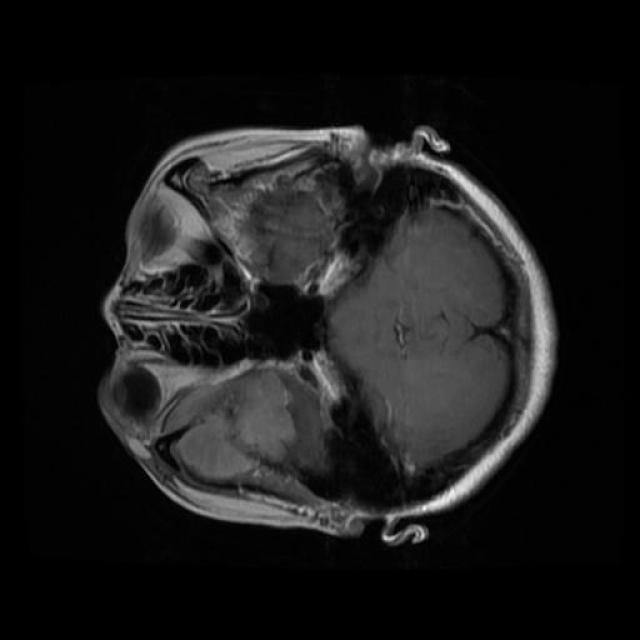Meningioma: (164, 367, 295, 490)
